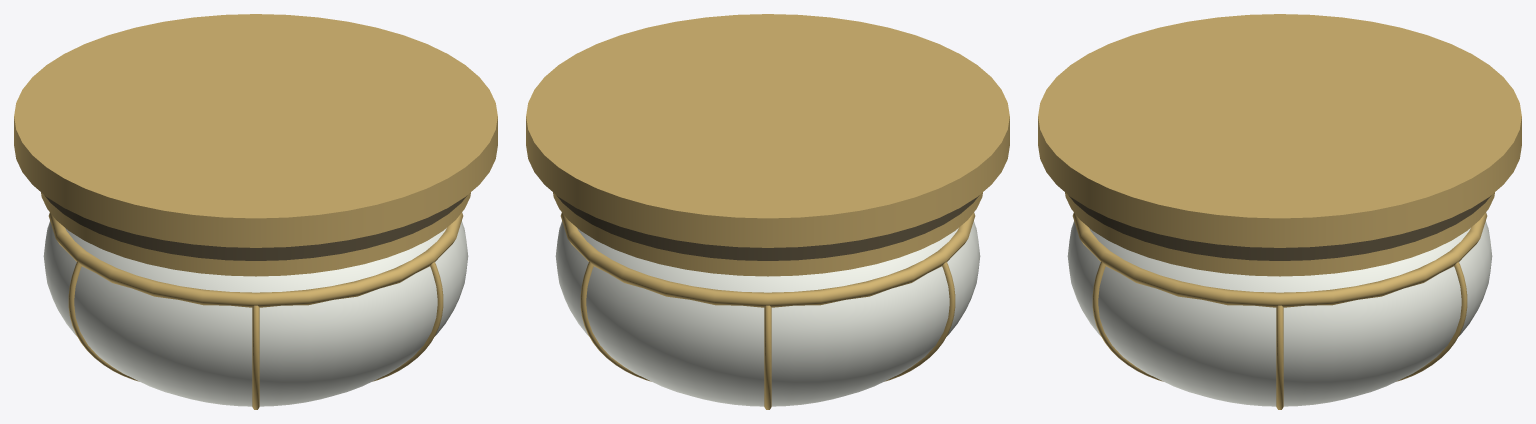
File: fixture_art_deco_flush.glb
The picture shows the model from 3 angles, left to right: view 1: azimuth 30°, elevation 25°; view 2: azimuth 150°, elevation 25°; view 3: azimuth 270°, elevation 25°; orthographic projection.
Visible parts, largest first — view 1: Wide stepped ceiling mounting plate, Closed opal diffuser dome, Dome equator gold edging, Lower gold ceiling rim, Dark stepped ceiling inset, Geometric dome rib 5, Geometric dome rib 4, Geometric dome rib 6; view 2: Wide stepped ceiling mounting plate, Closed opal diffuser dome, Dome equator gold edging, Lower gold ceiling rim, Dark stepped ceiling inset, Geometric dome rib 3, Geometric dome rib 2, Geometric dome rib 4; view 3: Wide stepped ceiling mounting plate, Closed opal diffuser dome, Dome equator gold edging, Lower gold ceiling rim, Dark stepped ceiling inset, Geometric dome rib 1, Geometric dome rib 2, Geometric dome rib 6.
Part boxes in pixels (box(x1,y1,x2,y2)): Wide stepped ceiling mounting plate: box(14, 14, 497, 247); Closed opal diffuser dome: box(43, 221, 468, 406); Dome equator gold edging: box(48, 212, 463, 307); Lower gold ceiling rim: box(41, 192, 470, 276); Dark stepped ceiling inset: box(44, 195, 467, 260); Geometric dome rib 5: box(252, 305, 259, 409); Geometric dome rib 4: box(68, 261, 139, 381); Geometric dome rib 6: box(372, 261, 443, 381); Wide stepped ceiling mounting plate: box(526, 14, 1009, 247); Closed opal diffuser dome: box(555, 221, 980, 406); Dome equator gold edging: box(560, 212, 975, 307); Lower gold ceiling rim: box(553, 192, 982, 276); Dark stepped ceiling inset: box(556, 195, 979, 260); Geometric dome rib 3: box(764, 305, 771, 409); Geometric dome rib 2: box(580, 261, 651, 381); Geometric dome rib 4: box(884, 261, 955, 381); Wide stepped ceiling mounting plate: box(1038, 14, 1521, 247); Closed opal diffuser dome: box(1067, 221, 1492, 406); Dome equator gold edging: box(1072, 212, 1487, 307); Lower gold ceiling rim: box(1065, 192, 1494, 276); Dark stepped ceiling inset: box(1068, 195, 1491, 260); Geometric dome rib 1: box(1276, 305, 1283, 409); Geometric dome rib 2: box(1396, 261, 1467, 381); Geometric dome rib 6: box(1092, 261, 1163, 381).
Bounding box in the file's own units: 0.49 × 0.2985 × 0.49.
